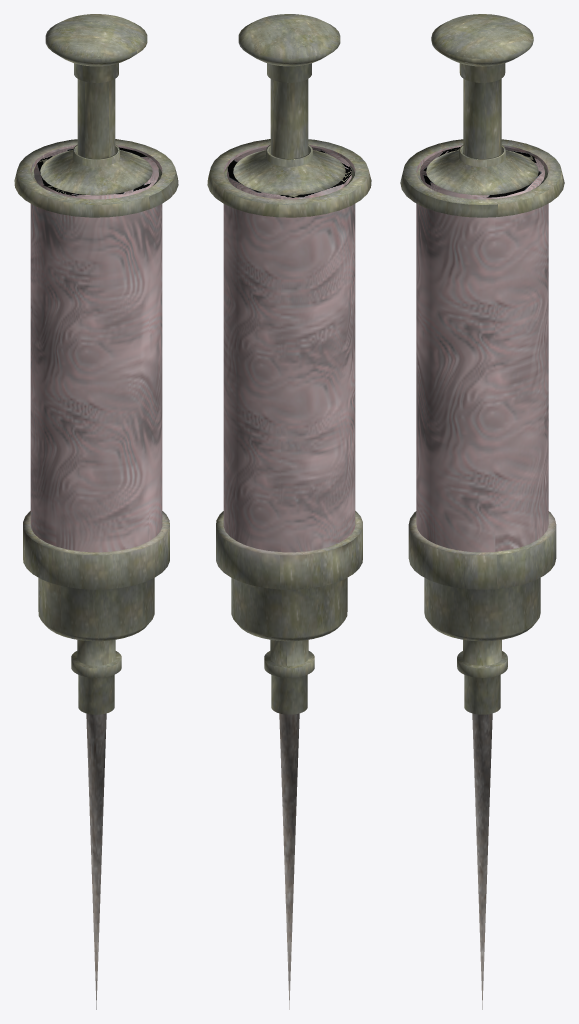
File: syringe.glb
3 renders of one model, left to right at view 1: azimuth 30°, elevation 25°; view 2: azimuth 150°, elevation 25°; view 3: azimuth 270°, elevation 25°, orthographic.
Visible parts, largest first — view 1: CenterCylinder, Tip, TopCap, Plunger, LiquidCenter; view 2: CenterCylinder, Tip, TopCap, Plunger, LiquidCenter; view 3: CenterCylinder, Tip, TopCap, Plunger, LiquidCenter.
Part boxes in pixels (x1,y1,x2,y2): CenterCylinder: [30, 145, 162, 552]; Tip: [23, 511, 169, 1009]; TopCap: [14, 139, 178, 217]; Plunger: [45, 14, 147, 158]; LiquidCenter: [34, 147, 158, 199]; CenterCylinder: [223, 145, 355, 552]; Tip: [216, 511, 362, 1009]; TopCap: [207, 139, 371, 217]; Plunger: [238, 14, 340, 158]; LiquidCenter: [227, 147, 351, 199]; CenterCylinder: [416, 145, 548, 552]; Tip: [408, 511, 556, 1009]; TopCap: [400, 139, 564, 217]; Plunger: [431, 14, 533, 158]; LiquidCenter: [420, 147, 544, 199].
Bounding box in the file's own units: 0.0432 × 0.2851 × 0.0432.
1 material, 1 textured.
